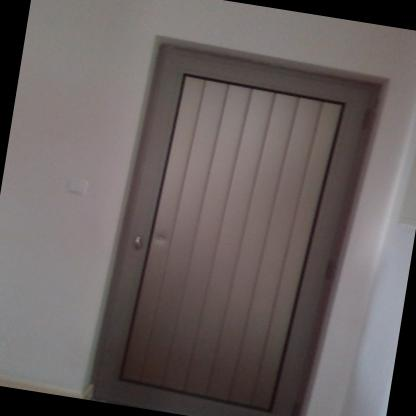closed: (79, 24, 405, 415)
